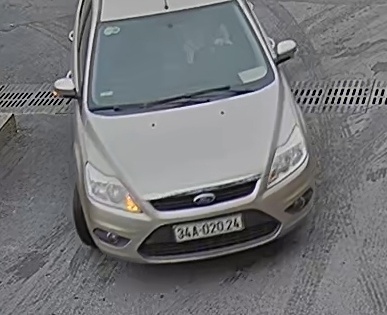vehicle plate: (164, 211, 246, 246)
